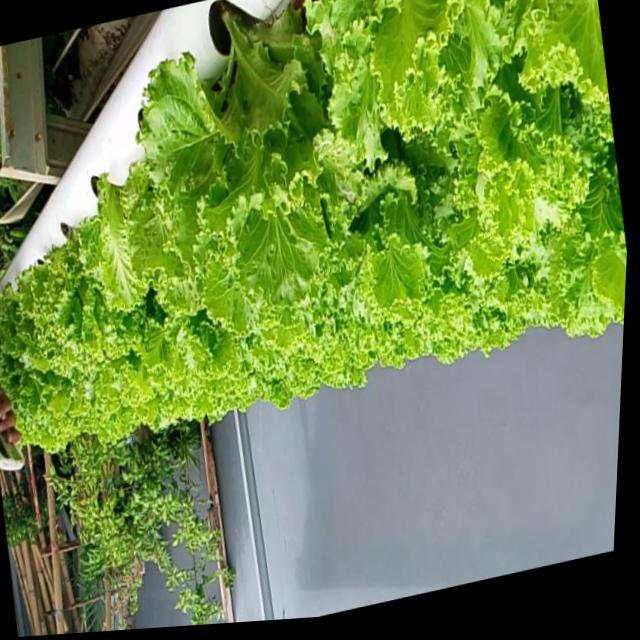Mature: (136, 0, 354, 329), (20, 214, 132, 379)
